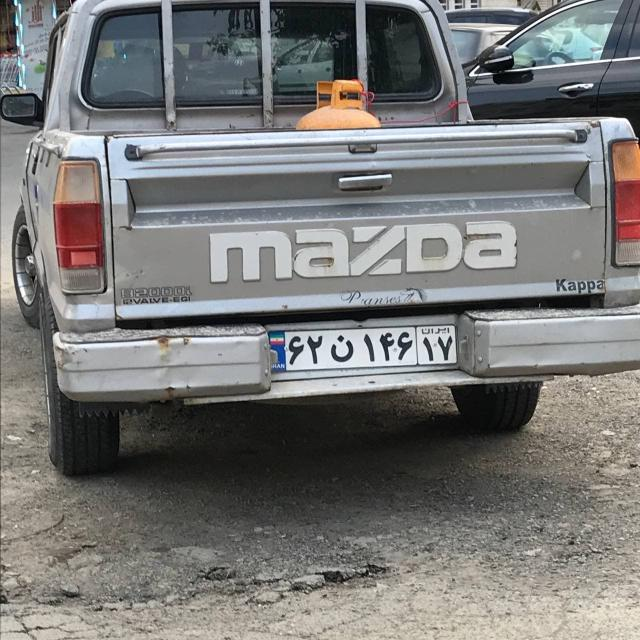Plates: (268, 322, 458, 373)
